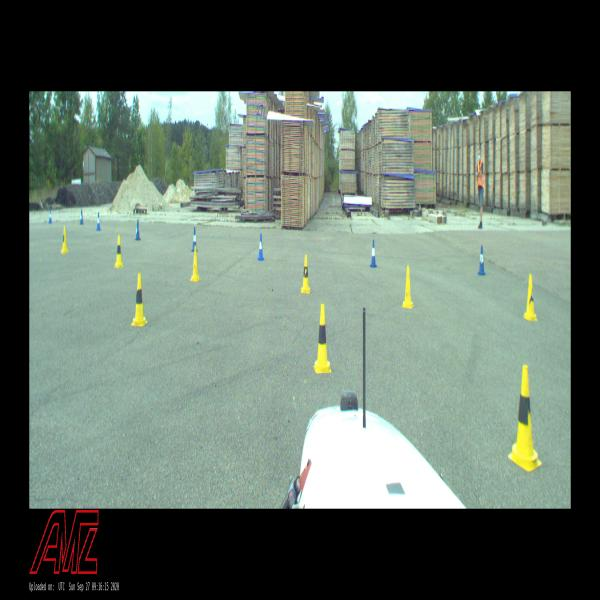blue_cone: (477, 244, 486, 276), (370, 239, 377, 268), (257, 233, 264, 261), (191, 226, 198, 252), (135, 219, 141, 240), (96, 212, 101, 231), (80, 208, 84, 225), (48, 209, 52, 224)
yellow_cone: (508, 365, 542, 472), (314, 303, 332, 374), (131, 272, 147, 327), (523, 273, 537, 322), (402, 265, 414, 309), (300, 254, 310, 294), (190, 245, 200, 282), (114, 235, 124, 268), (61, 225, 68, 254)
